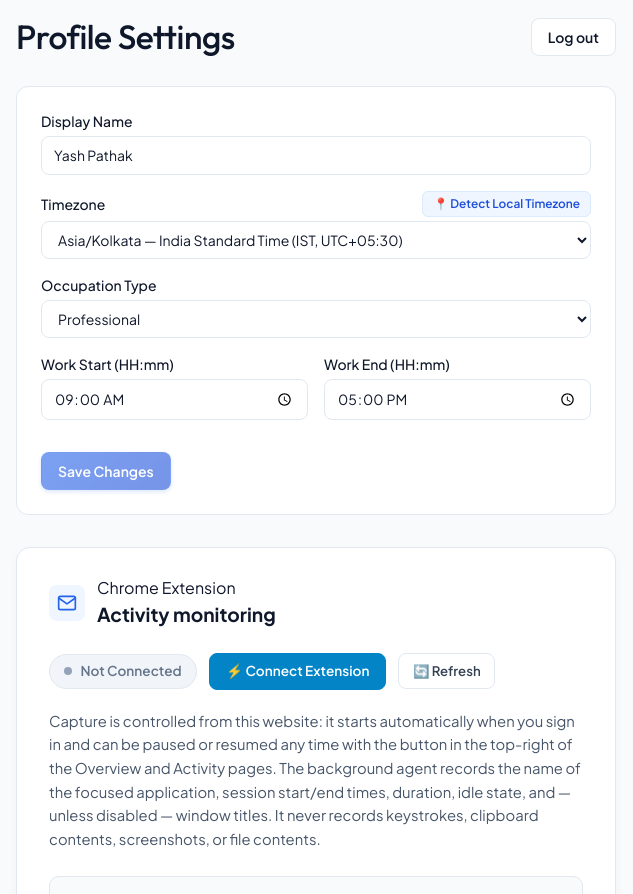
it: Profile & Timezone Management › clicking detect local timezone button sets local timezone
This screenshot has width=633, height=894.
Check: the field showing "Yash Pathak" is shown, box [41,136,591,175]
Click the button "📍 Detect Local Timezone".
click(507, 204)  # box [422,191,591,217]
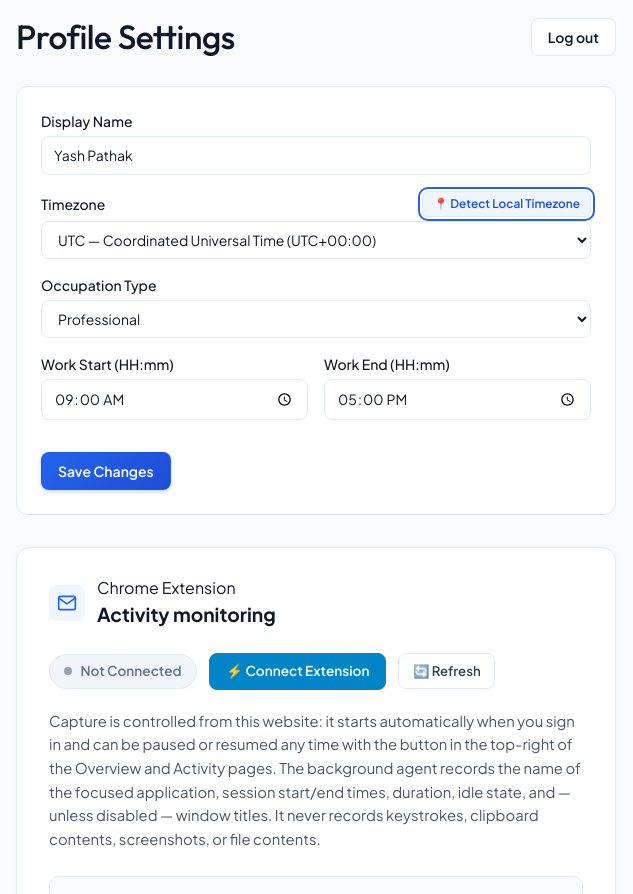
Check: the dropdown labelled "Timezone" shows "UTC — Coordinated Universal Time (UTC+00:00)", box [41,221,591,259]
